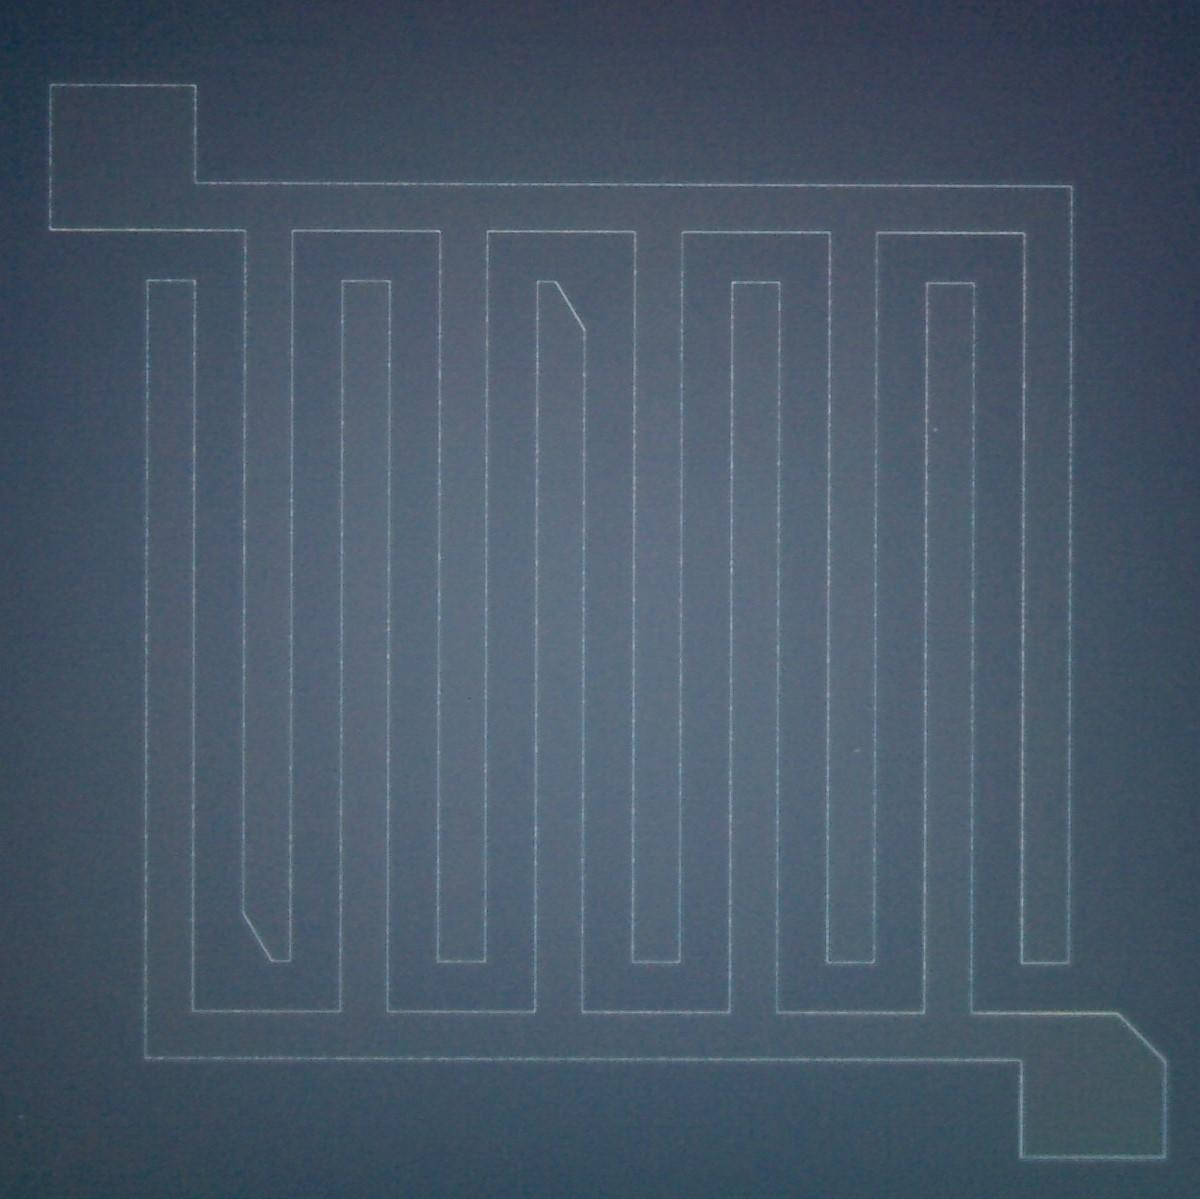cut: (517, 265, 595, 355), (229, 892, 307, 973), (1099, 998, 1177, 1078)
s_point: (927, 421, 944, 439), (850, 743, 864, 760)
